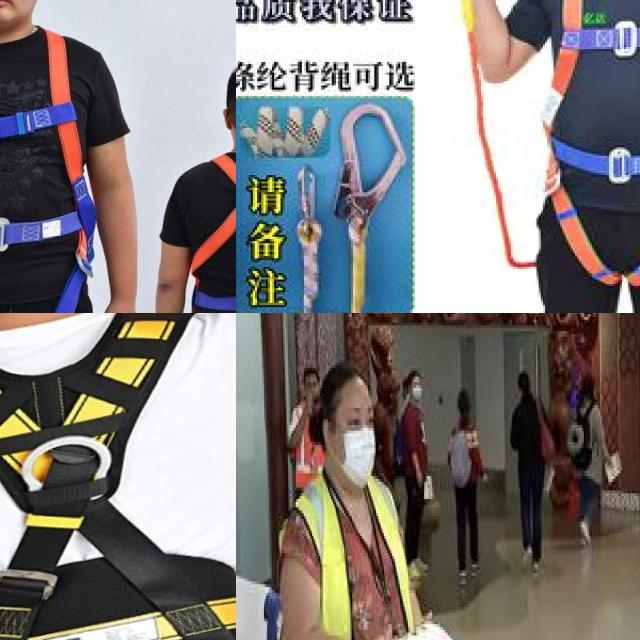Harness: (0, 313, 236, 640), (540, 0, 640, 286), (0, 28, 82, 313), (185, 150, 236, 313)
face_mask: (331, 397, 378, 488), (411, 374, 421, 396)
head_nohelmet: (328, 362, 373, 400), (452, 388, 473, 425), (304, 359, 320, 394), (580, 371, 596, 397), (520, 371, 531, 402)
person: (280, 368, 445, 640), (505, 369, 554, 583), (570, 371, 620, 559), (447, 385, 486, 593)
shoes: (410, 550, 432, 579), (517, 537, 533, 566), (579, 519, 594, 547), (466, 556, 484, 578), (530, 552, 542, 580), (457, 566, 468, 591)
vest: (288, 480, 416, 640)
